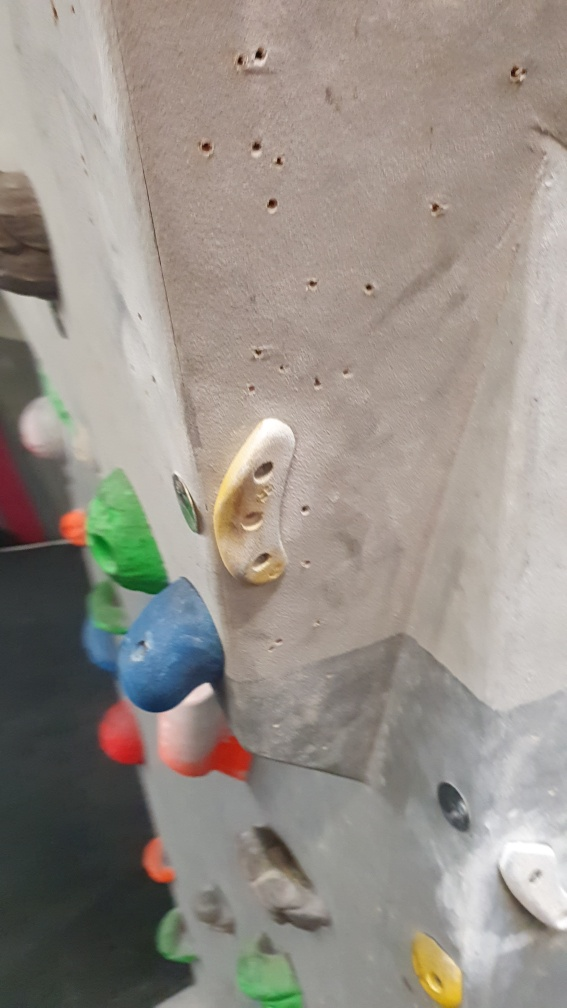Hand Start: (434, 779, 476, 834), (170, 472, 203, 536)
Jug: (238, 826, 333, 937)
